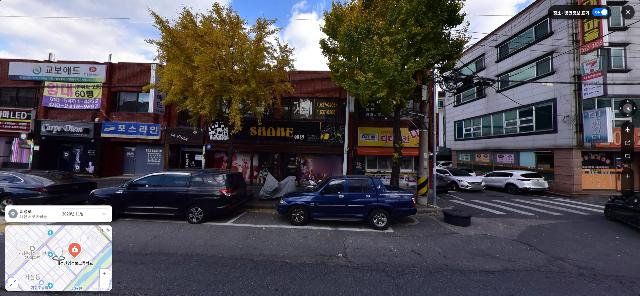ginkgo: (139, 1, 296, 168)
other: (318, 0, 472, 188)
